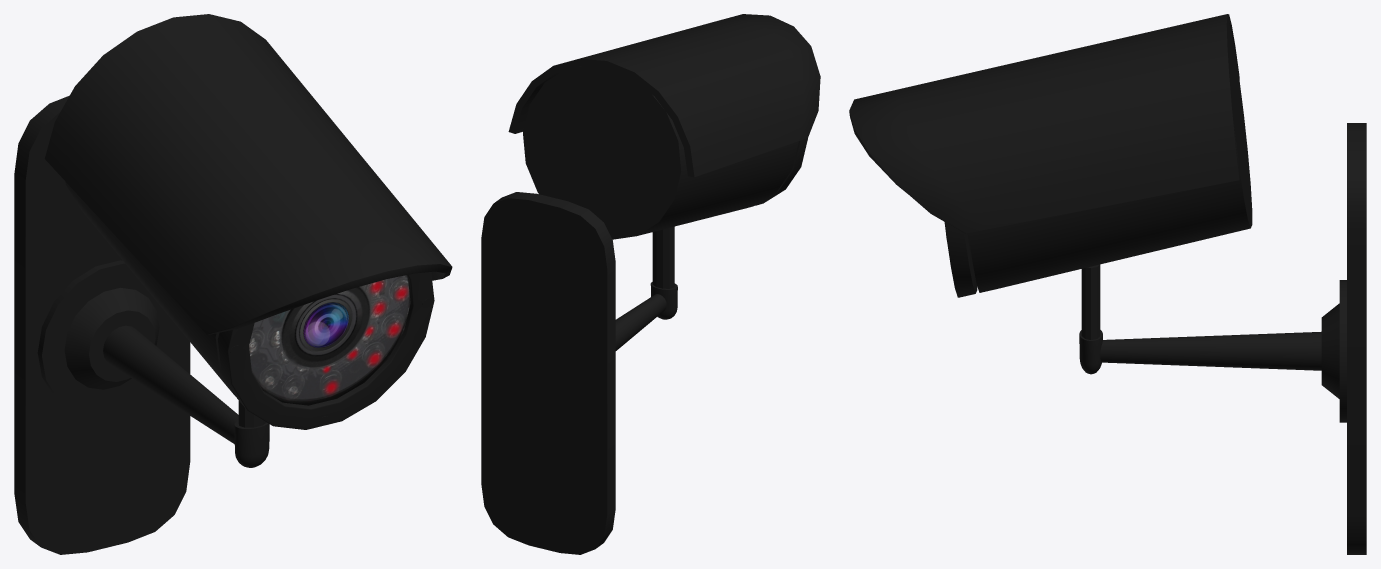
File: CCTV camera.fbx
3 renders of one model, left to right at view 1: azimuth 30°, elevation 25°; view 2: azimuth 150°, elevation 25°; view 3: azimuth 270°, elevation 25°, orthographic. The views are drawn at different scales.
Parts seen in each view (by area): view 1: CCTV; view 2: CCTV; view 3: CCTV.
Boxes of the visible parts, <box> form: CCTV: <box>14,14,452,554</box>; CCTV: <box>481,14,820,554</box>; CCTV: <box>849,14,1366,554</box>.
Size of the model in its own units: 93.31 by 213 by 195.
1 material, 1 textured.
